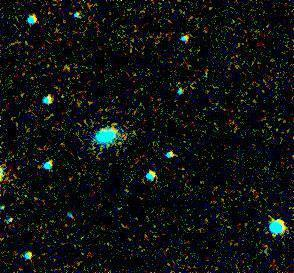star: (16, 62, 46, 92)
